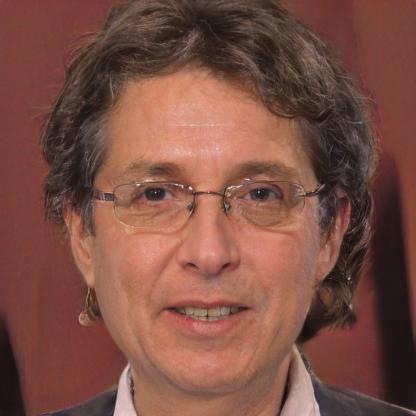glasses: (95, 174, 319, 240)
